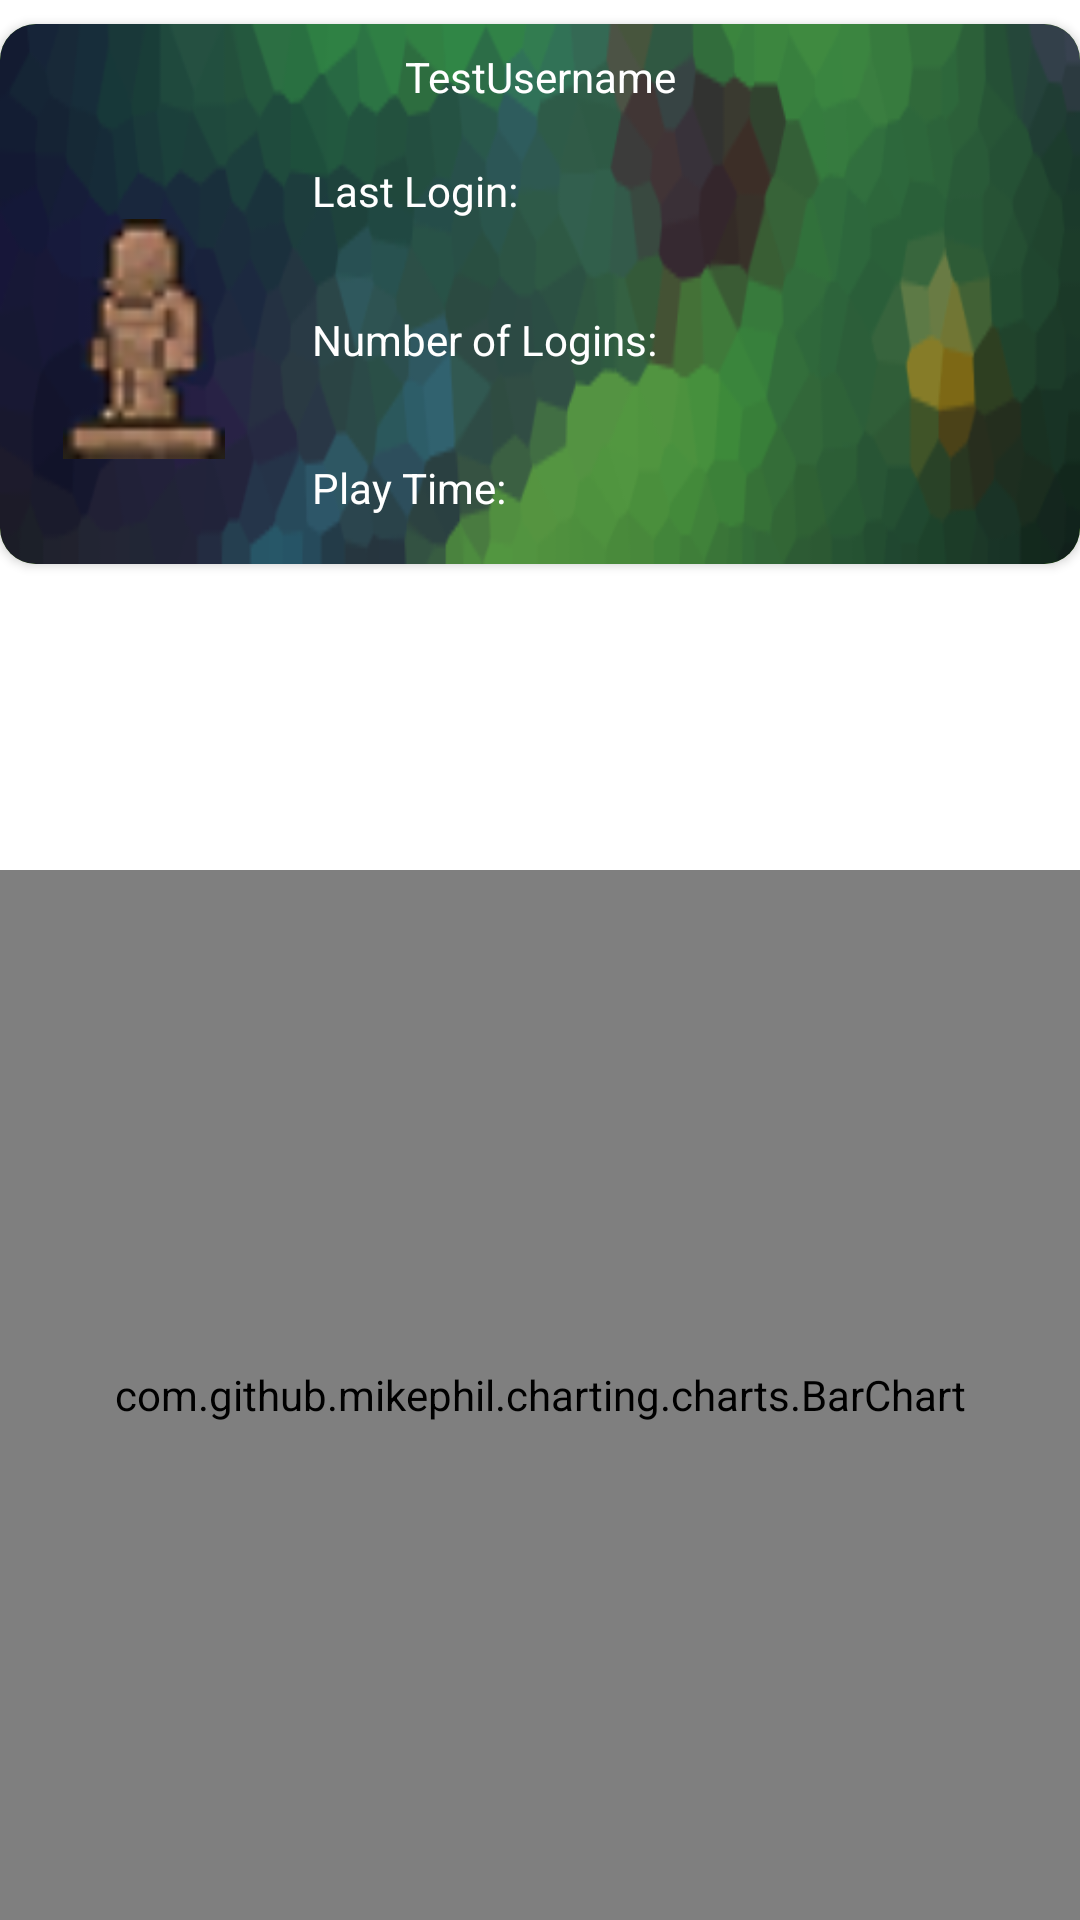

Icons on this 1080x1920 Android screen, each with the point to tap as (x,y):
mannequin: (144,339)
